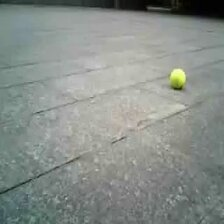tennis: (171, 69, 186, 89)
